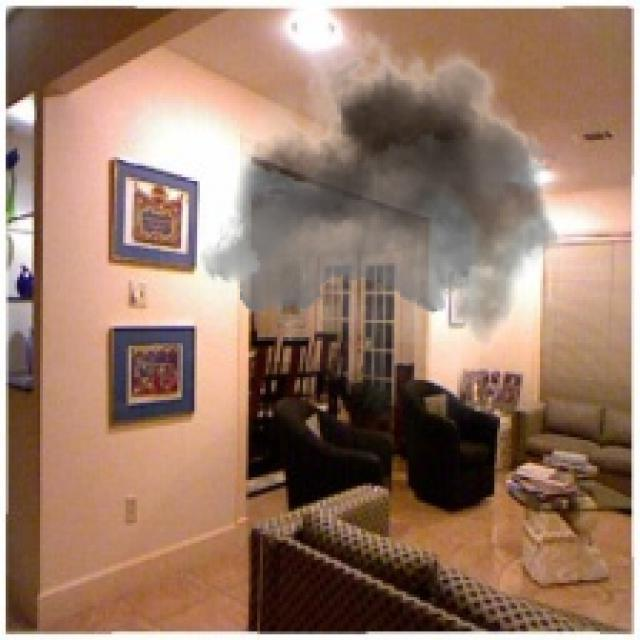Smoke: (199, 8, 592, 423)
